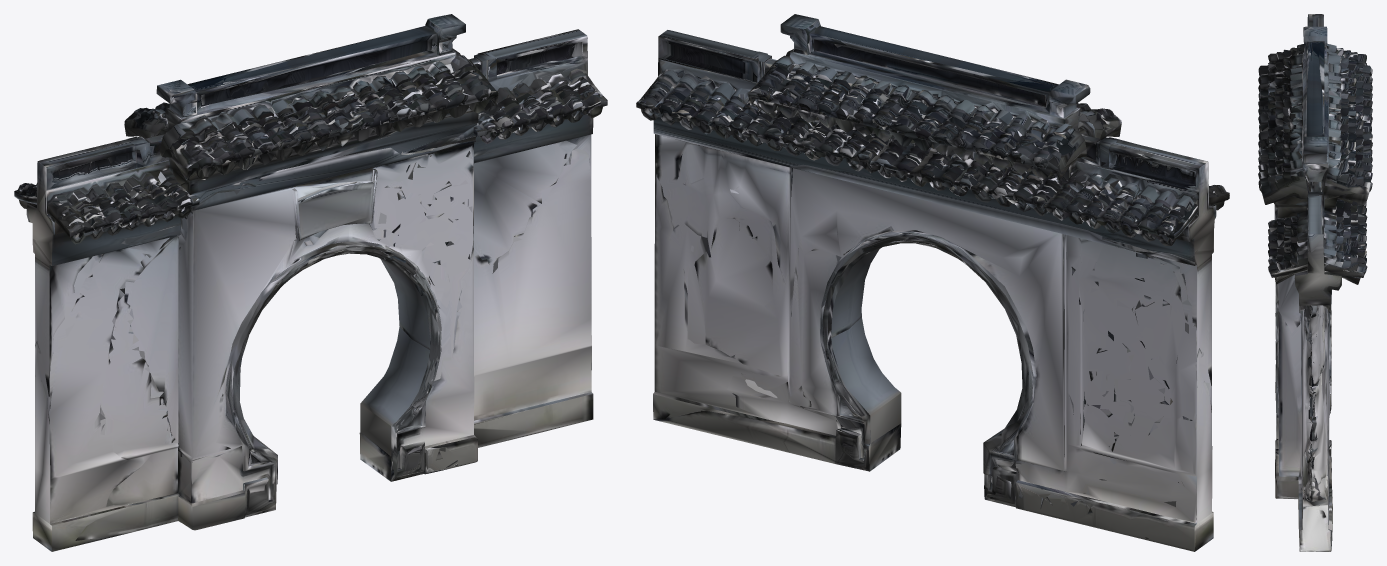
File: moonGate-compressed.glb
3 renders of one model, left to right at view 1: azimuth 30°, elevation 25°; view 2: azimuth 150°, elevation 25°; view 3: azimuth 270°, elevation 25°, orthographic. The views are drawn at different scales.
Visible parts, largest first — view 1: node_0; view 2: node_0; view 3: node_0.
Part boxes in pixels (x1,y1,x2,y2): node_0: [14, 14, 607, 551]; node_0: [636, 14, 1229, 551]; node_0: [1258, 14, 1372, 551].
Size of the model in its own units: 2.93 by 2.2 by 0.6439.
1 material, 1 textured.
